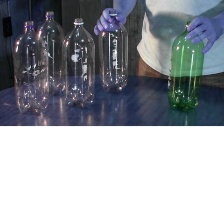bottle: (9, 17, 53, 116), (164, 17, 208, 113), (33, 8, 76, 99), (60, 15, 100, 109), (95, 6, 131, 94)
